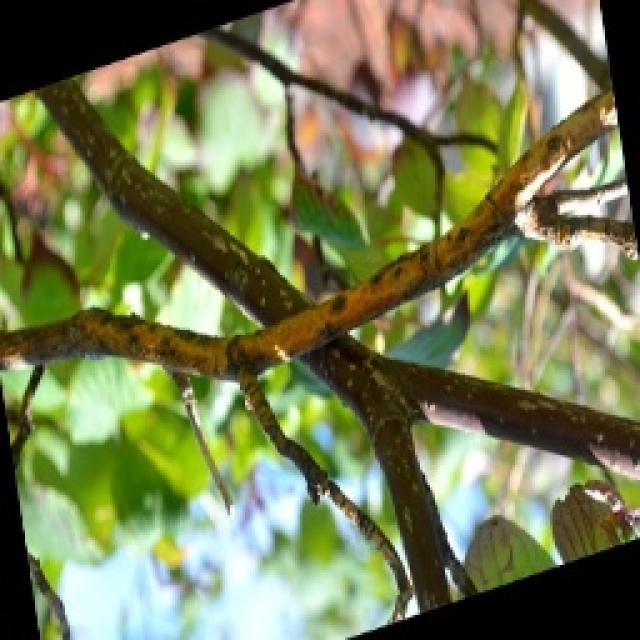Golden_canker: (0, 53, 640, 482)
